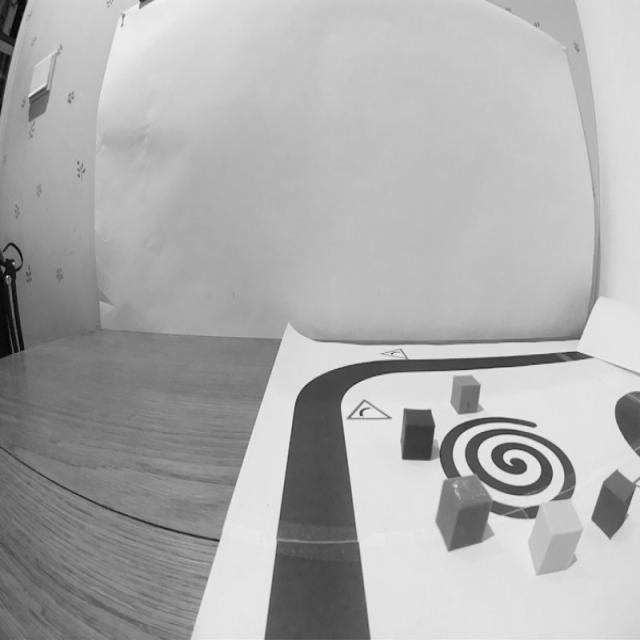cube: (431, 469, 496, 556), (524, 496, 586, 577), (590, 465, 635, 544), (398, 404, 437, 466), (450, 371, 481, 417)
laneRightTurn: (284, 358, 388, 454)
lineStraight: (260, 476, 374, 640)
nest: (439, 414, 579, 521)
